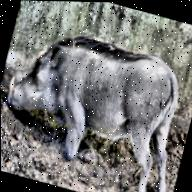boar: (0, 17, 192, 192)
